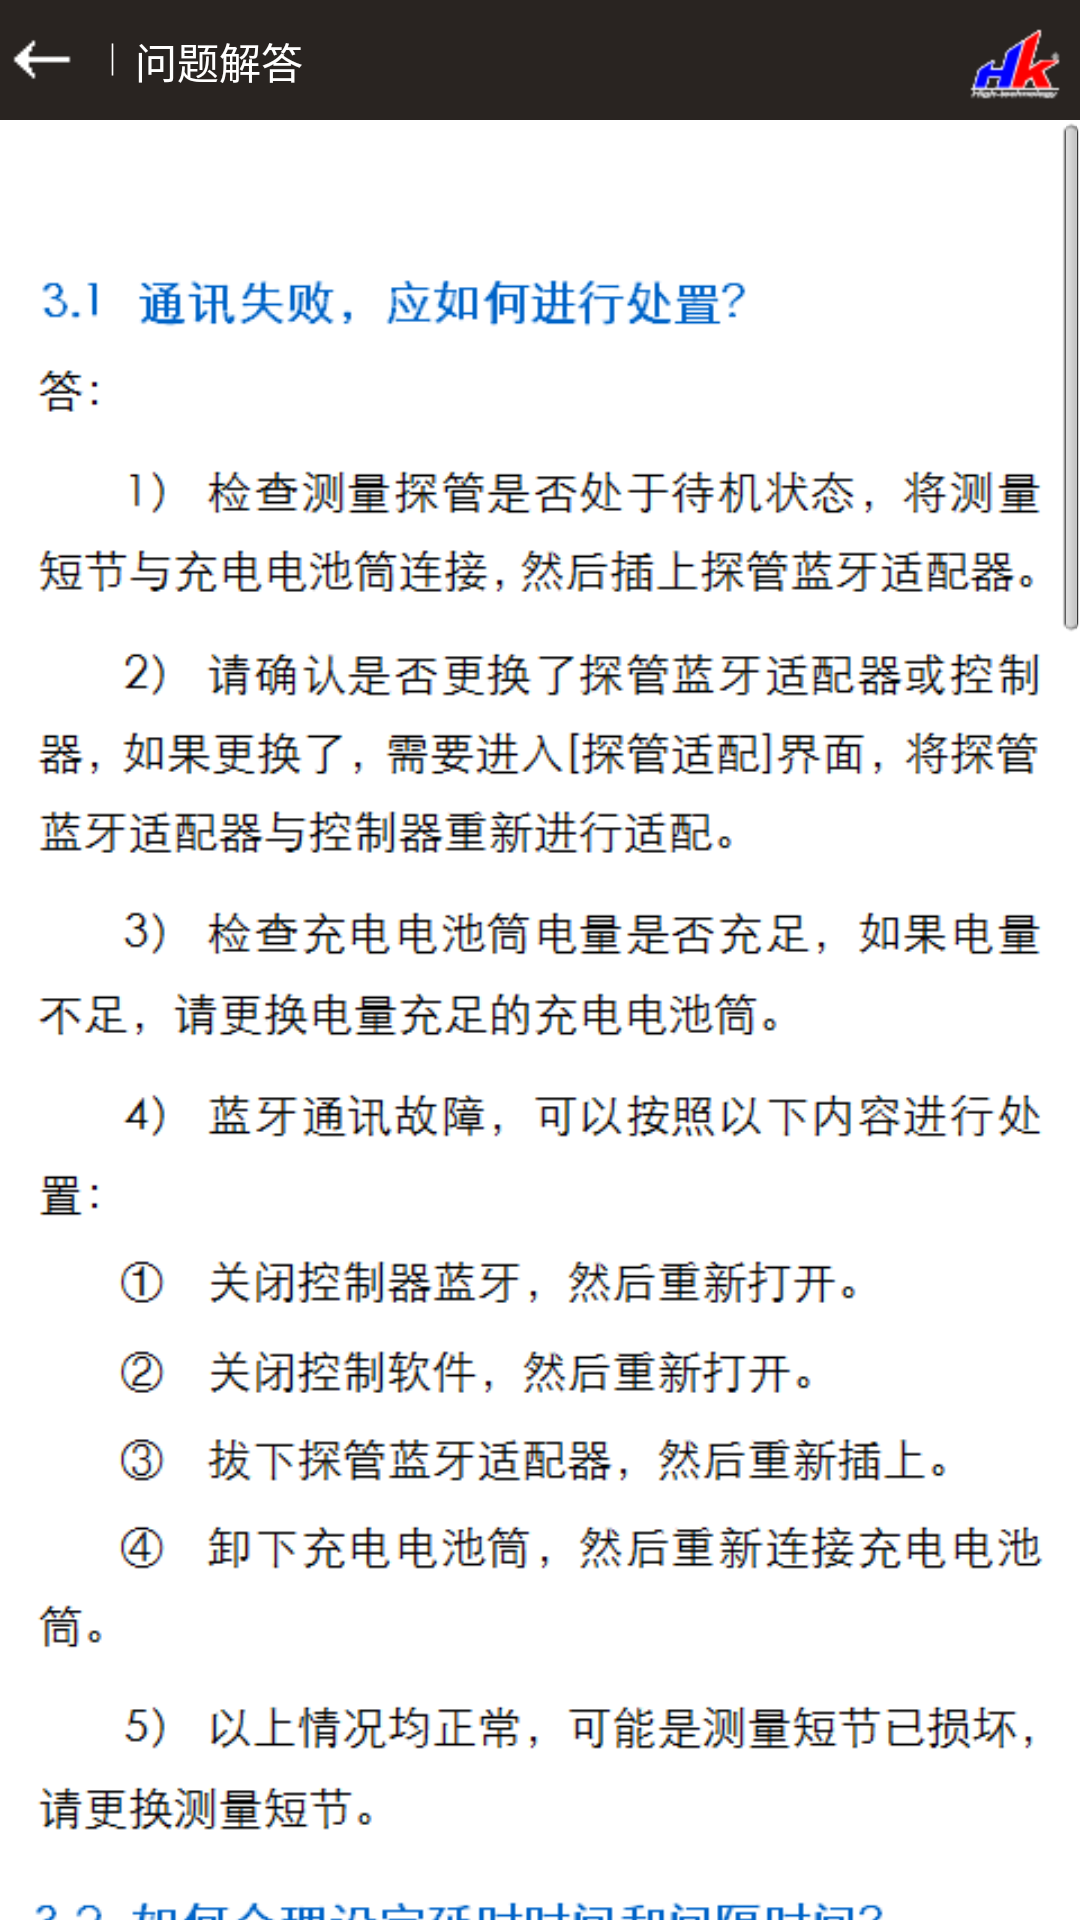

Where to tap for icons on this 1080px×1920px app screen, as (x=x, y=y):
houtui: (x=42, y=59)
